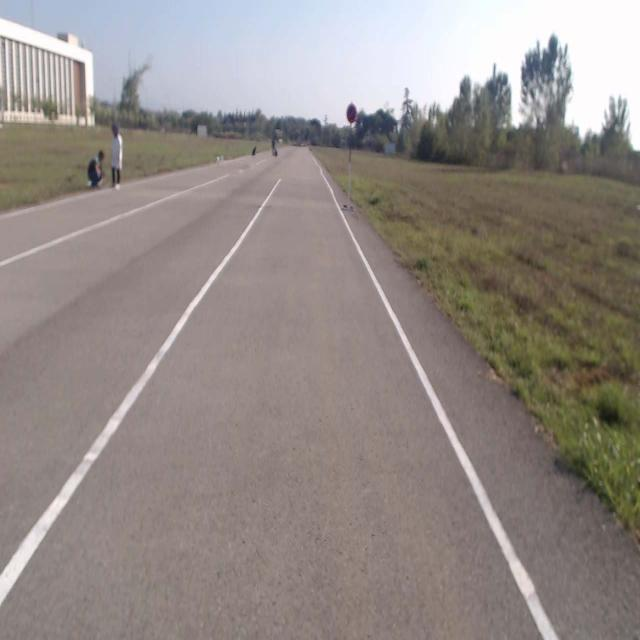parkyasak: (347, 104, 357, 124)
